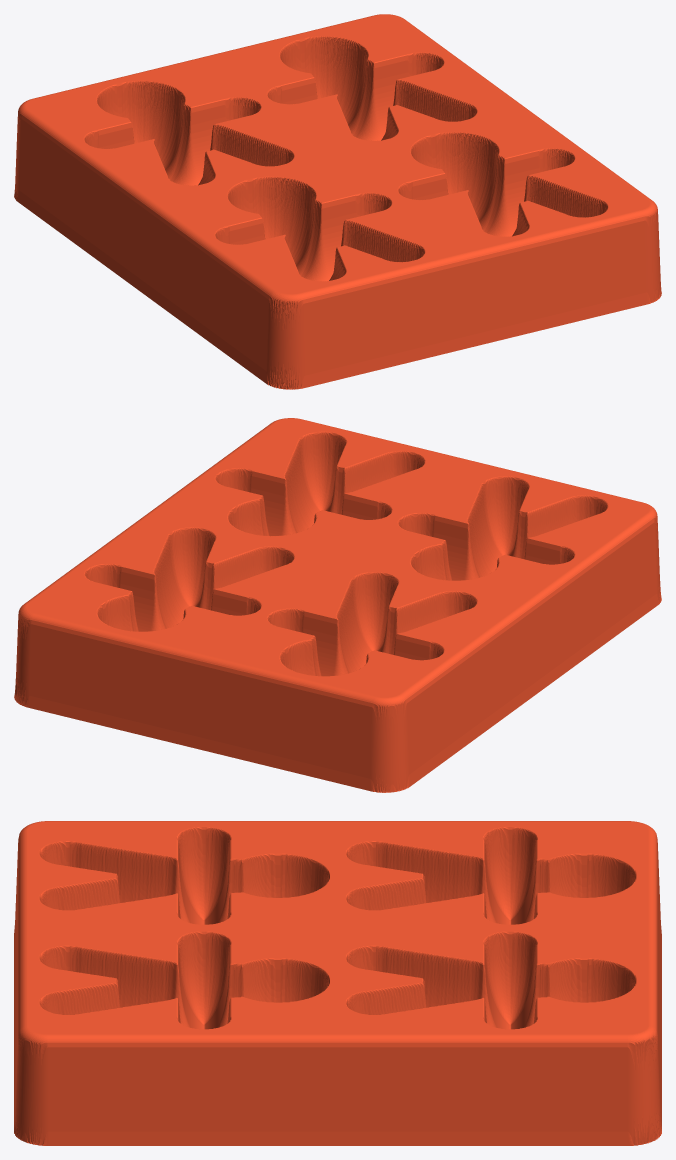
File: mold.glb
3 renders of one model, top to bottom at view 1: azimuth 30°, elevation 25°; view 2: azimuth 150°, elevation 25°; view 3: azimuth 270°, elevation 25°, orthographic. The views are drawn at different scales.
Visible parts, largest first — view 1: geometry_0; view 2: geometry_0; view 3: geometry_0.
Boxes of the visible parts, x1,y1,x2,y2 form: geometry_0: (14,14,661,389); geometry_0: (14,418,661,792); geometry_0: (14,821,661,1145).
Bounding box in the file's own units: 0.1408 × 0.031 × 0.1721.
